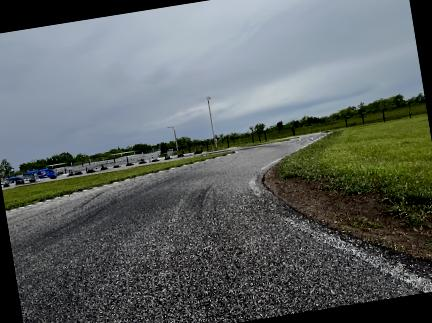Grass: (275, 115, 431, 263), (2, 153, 229, 211), (235, 137, 298, 148), (424, 241, 431, 245)
Lane: (6, 134, 431, 322)
